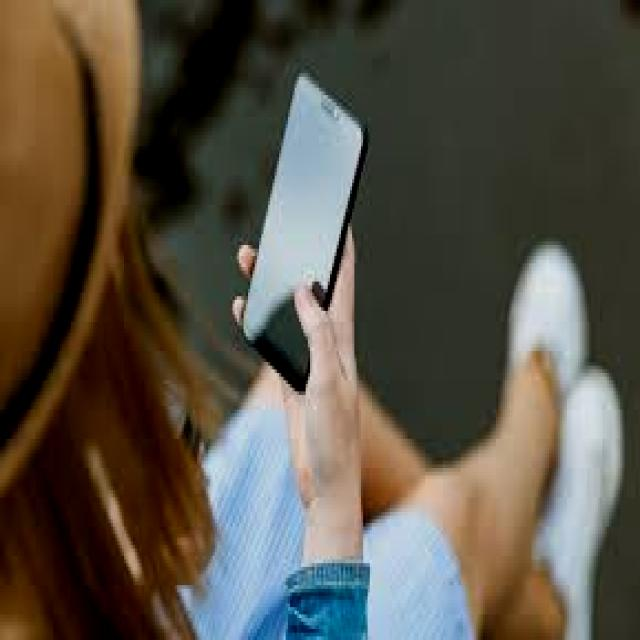phone: (229, 57, 386, 391)
